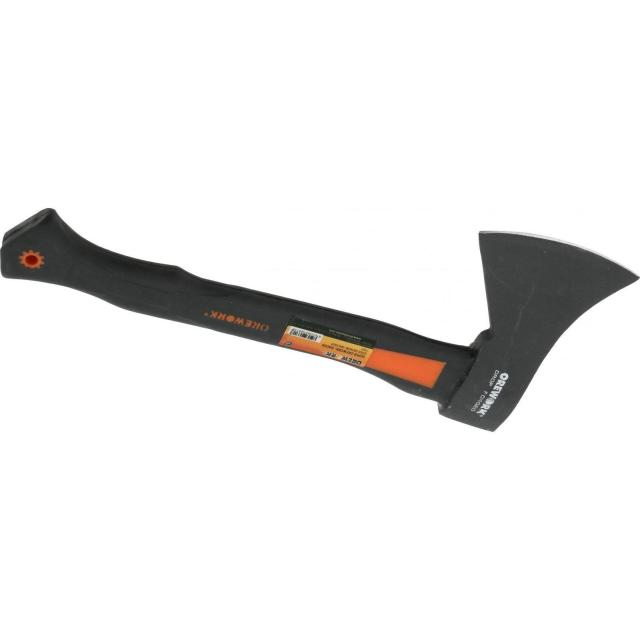Kapak: (14, 170, 600, 418)
